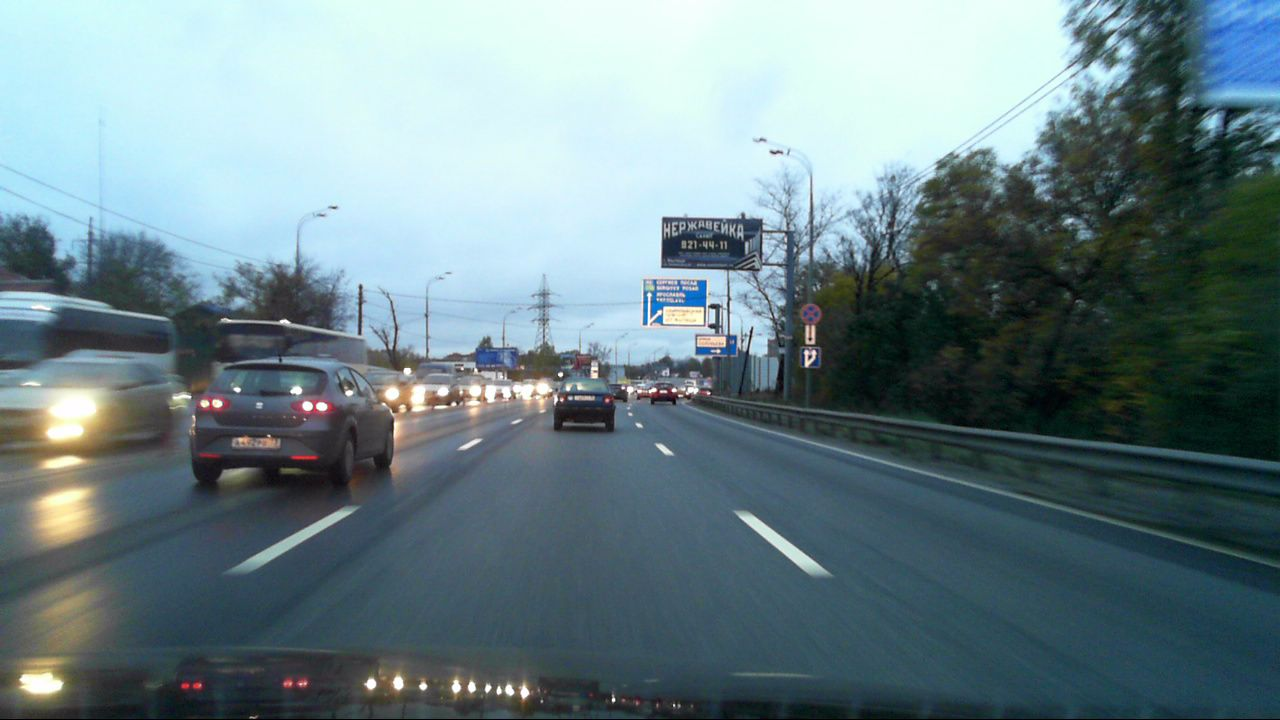No Parking: (800, 303, 821, 323)
